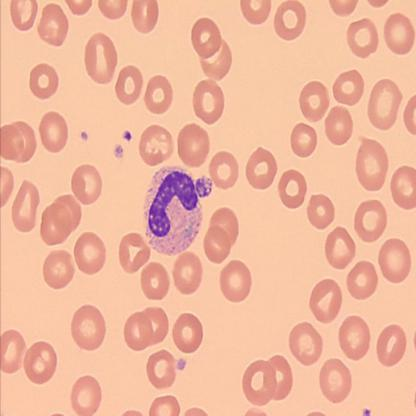Band Neutrophil: (140, 162, 204, 257)
